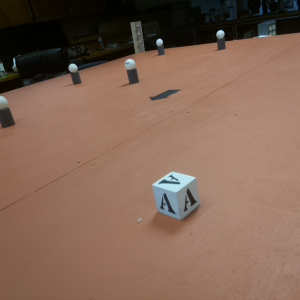obstacle: (121, 57, 142, 86), (66, 60, 83, 86), (1, 99, 15, 130), (215, 30, 227, 50), (156, 39, 168, 57)
